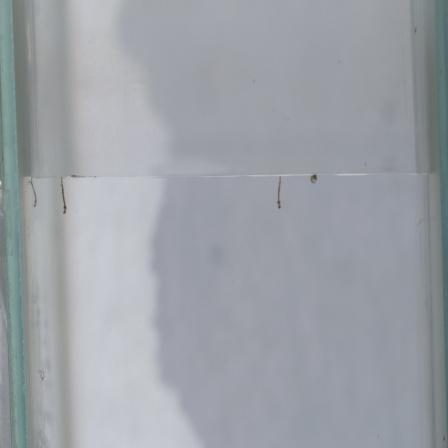Jentik-Nyamuk: (54, 173, 72, 221), (25, 176, 43, 214), (272, 173, 287, 213), (306, 169, 323, 189)
